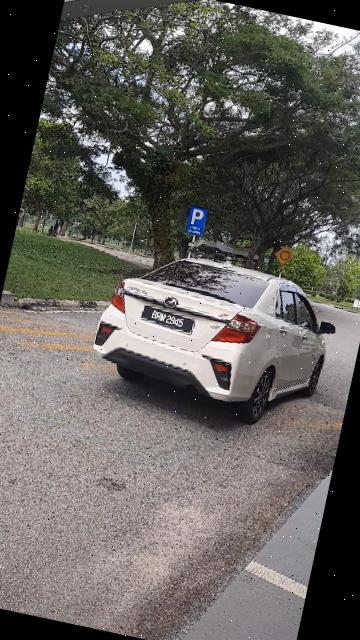car: (83, 237, 349, 439)
